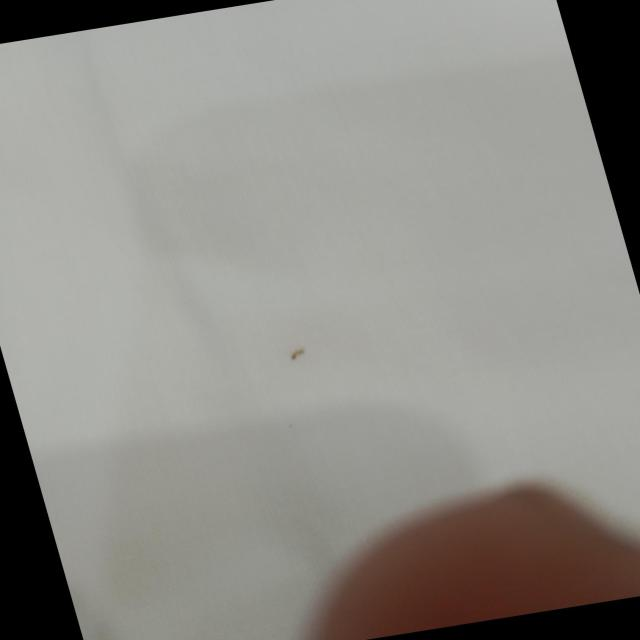stain: (270, 333, 326, 368)
